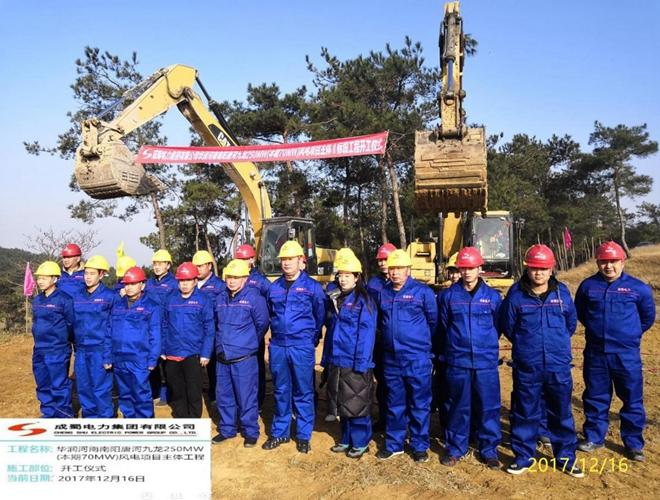helmet: (524, 244, 558, 269), (454, 247, 484, 270), (597, 241, 627, 264), (225, 259, 253, 279), (36, 264, 63, 282), (85, 255, 112, 273), (386, 251, 412, 269), (338, 256, 364, 273), (176, 263, 199, 282), (279, 241, 303, 259), (123, 268, 148, 284), (235, 245, 256, 263), (118, 258, 135, 278), (154, 248, 172, 266), (194, 253, 213, 269), (63, 246, 84, 260), (379, 243, 395, 259)
